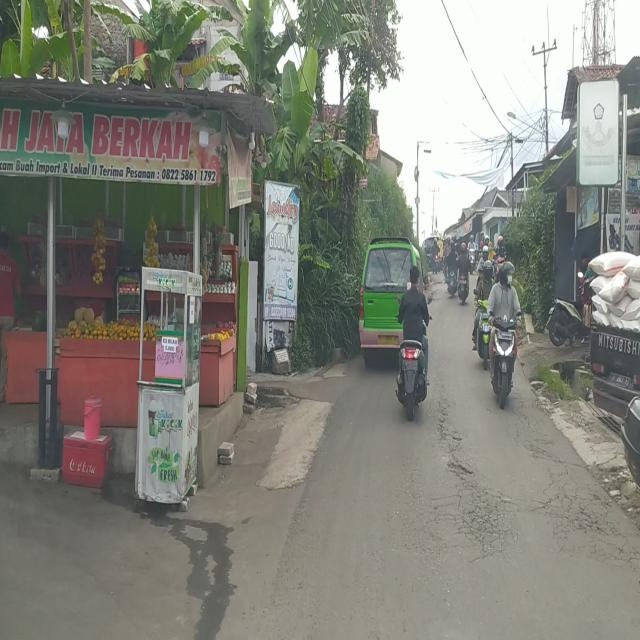Drain Hole: (518, 398, 632, 566), (437, 385, 522, 554)
